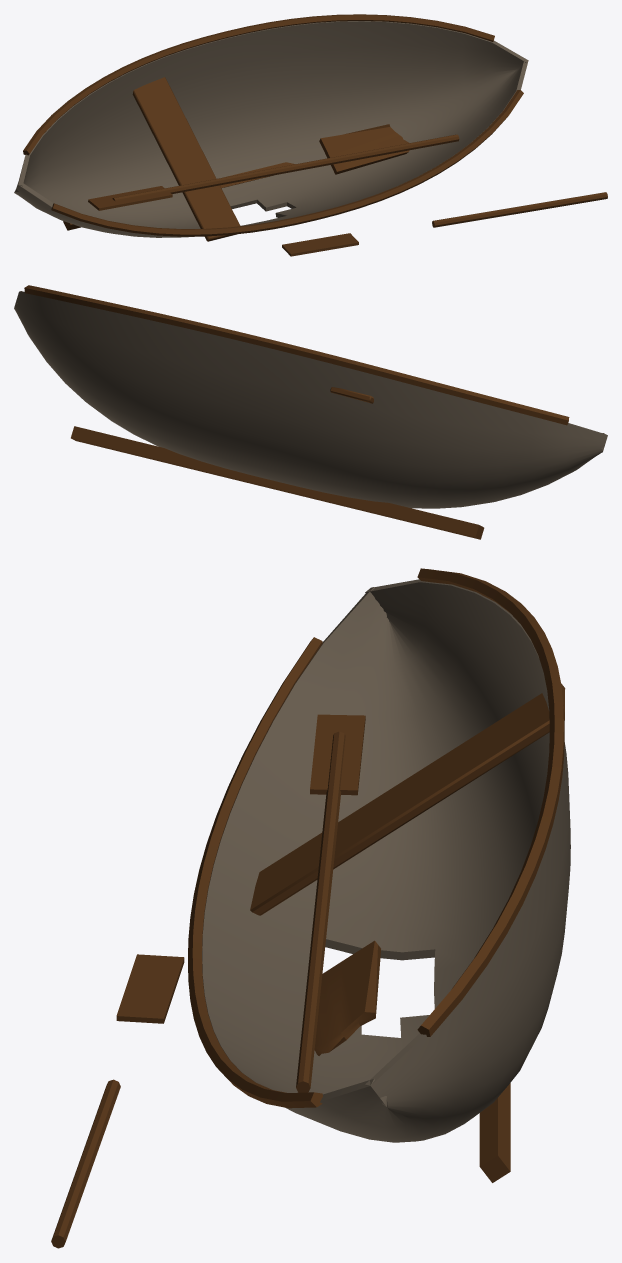
The model's file is ruderboot_kaputt.glb.
3 renders of one model, top to bottom at view 1: azimuth 30°, elevation 25°; view 2: azimuth 150°, elevation 25°; view 3: azimuth 270°, elevation 25°, orthographic. The views are drawn at different scales.
Parts seen in each view (by area): view 1: ruderboot_kaputt; view 2: ruderboot_kaputt; view 3: ruderboot_kaputt.
Boxes of the visible parts, left/top/right/bottom form: ruderboot_kaputt: left=14, top=14, right=607, bottom=256; ruderboot_kaputt: left=14, top=285, right=607, bottom=539; ruderboot_kaputt: left=51, top=568, right=570, bottom=1248.
Bounding box in the file's own units: 3.2 × 0.9064 × 1.41.
